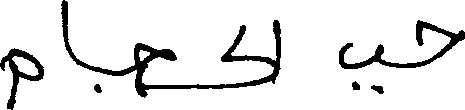X: (224, 15, 279, 92), (418, 15, 464, 71), (0, 43, 39, 109), (340, 38, 382, 98), (133, 38, 172, 102), (62, 0, 72, 63)
